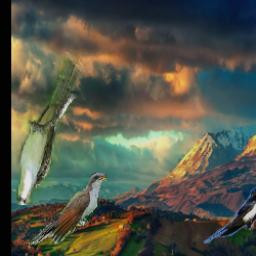Cuckoo: (17, 53, 88, 206), (29, 173, 106, 246)
Swallow: (203, 187, 256, 244)
